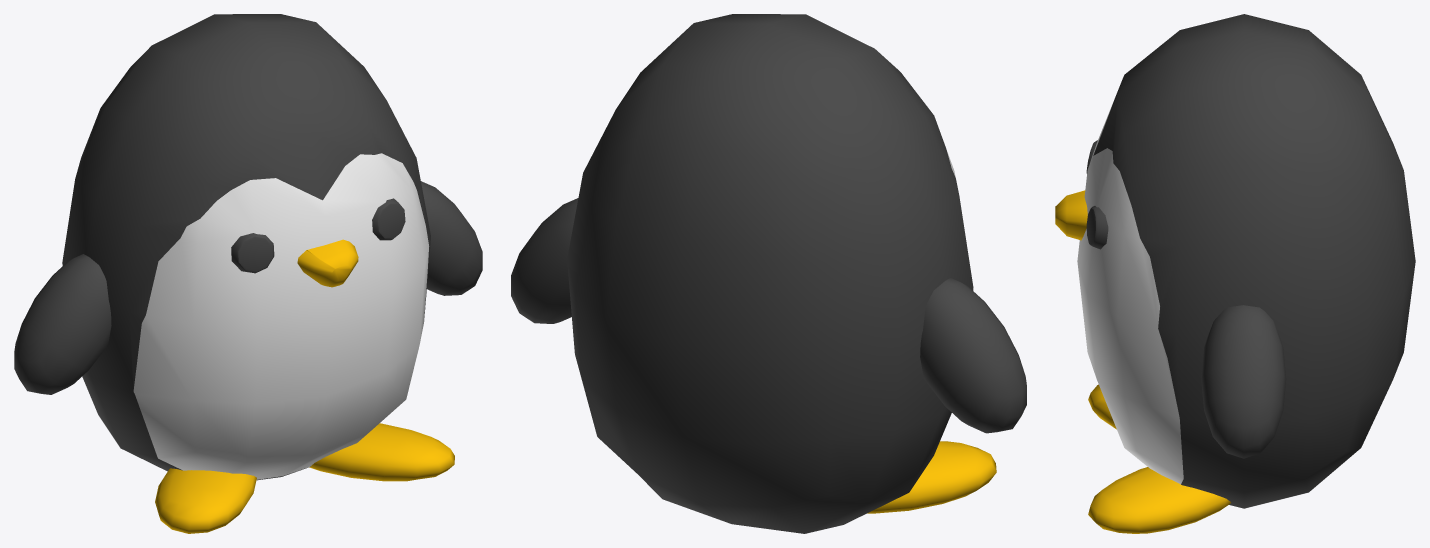
The model's file is Toy_5.fbx.
The picture shows the model from 3 angles, left to right: view 1: azimuth 30°, elevation 25°; view 2: azimuth 150°, elevation 25°; view 3: azimuth 270°, elevation 25°; orthographic projection. The views are drawn at different scales.
Visible parts, largest first — view 1: Toy_5; view 2: Toy_5; view 3: Toy_5.
Boxes of the visible parts, x1,y1,x2,y2 form: Toy_5: [14, 14, 482, 533]; Toy_5: [511, 14, 1026, 533]; Toy_5: [1055, 14, 1415, 533].
Bounding box in the file's own units: 0.2445 × 0.2261 × 0.164.
